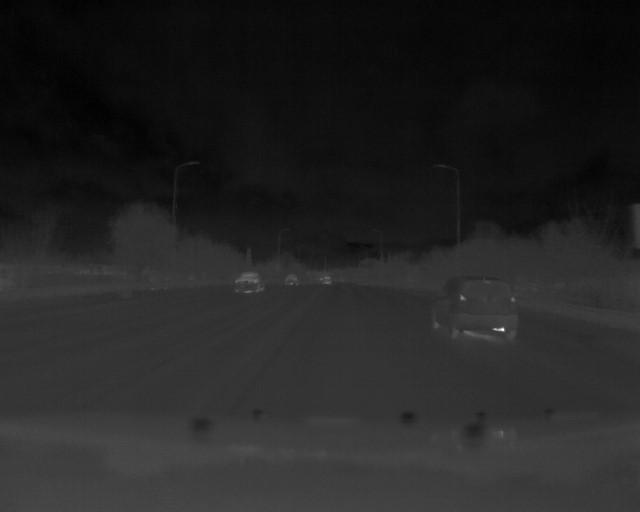car: (446, 256, 518, 342), (238, 267, 262, 298), (318, 271, 345, 291), (279, 271, 308, 285)
